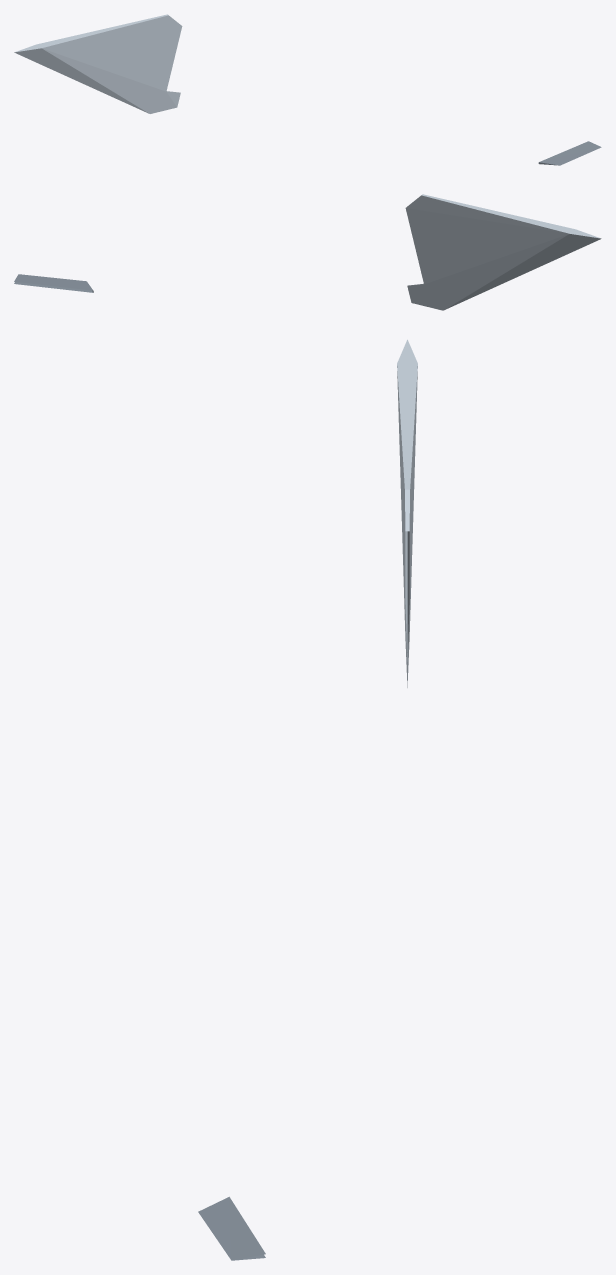
The model's file is Wing.FBX.
3 views of the same model, one above another, from view 1: azimuth 30°, elevation 25°; view 2: azimuth 150°, elevation 25°; view 3: azimuth 270°, elevation 25° (orthographic). The views are drawn at different scales.
Visible parts, largest first — view 1: VIFS001, VIFS002; view 2: VIFS001, VIFS002; view 3: VIFS001, VIFS002.
Part boxes in pixels (box(x1,y1,x2,y2)): VIFS001: box(14, 14, 182, 113); VIFS002: box(538, 141, 601, 165); VIFS001: box(405, 194, 601, 310); VIFS002: box(14, 274, 93, 292); VIFS001: box(397, 339, 417, 687); VIFS002: box(198, 1196, 265, 1260).
Size of the model in its own units: 4.8 by 1.65 by 0.84.
